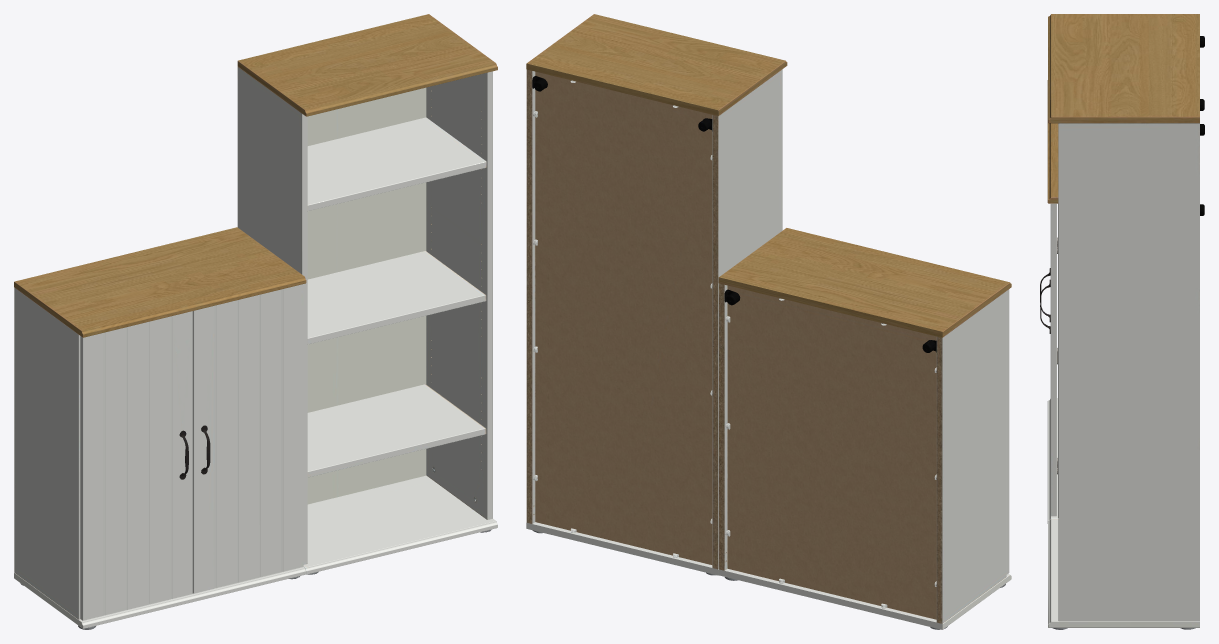
File: SKRUVBY_99494724.glb
The picture shows the model from 3 angles, left to right: view 1: azimuth 30°, elevation 25°; view 2: azimuth 150°, elevation 25°; view 3: azimuth 270°, elevation 25°; orthographic projection. The views are drawn at different scales.
Parts seen in each view (by area): view 1: bc36b85888764a0aabe794fabfdfba4f; view 2: bc36b85888764a0aabe794fabfdfba4f; view 3: bc36b85888764a0aabe794fabfdfba4f.
Boxes of the visible parts, x1=… form: bc36b85888764a0aabe794fabfdfba4f: x1=14, y1=14, x2=497, y2=629; bc36b85888764a0aabe794fabfdfba4f: x1=526, y1=14, x2=1011, y2=629; bc36b85888764a0aabe794fabfdfba4f: x1=1040, y1=14, x2=1204, y2=629.
Size of the model in its own units: 1.3 by 1.4 by 0.4065.
Materials: 3 (3 with a texture image).
